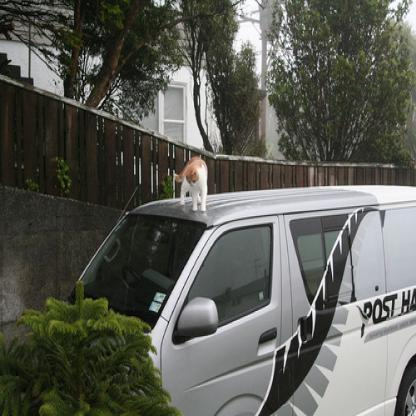car: (53, 185, 415, 415)
cat: (173, 155, 209, 214)
